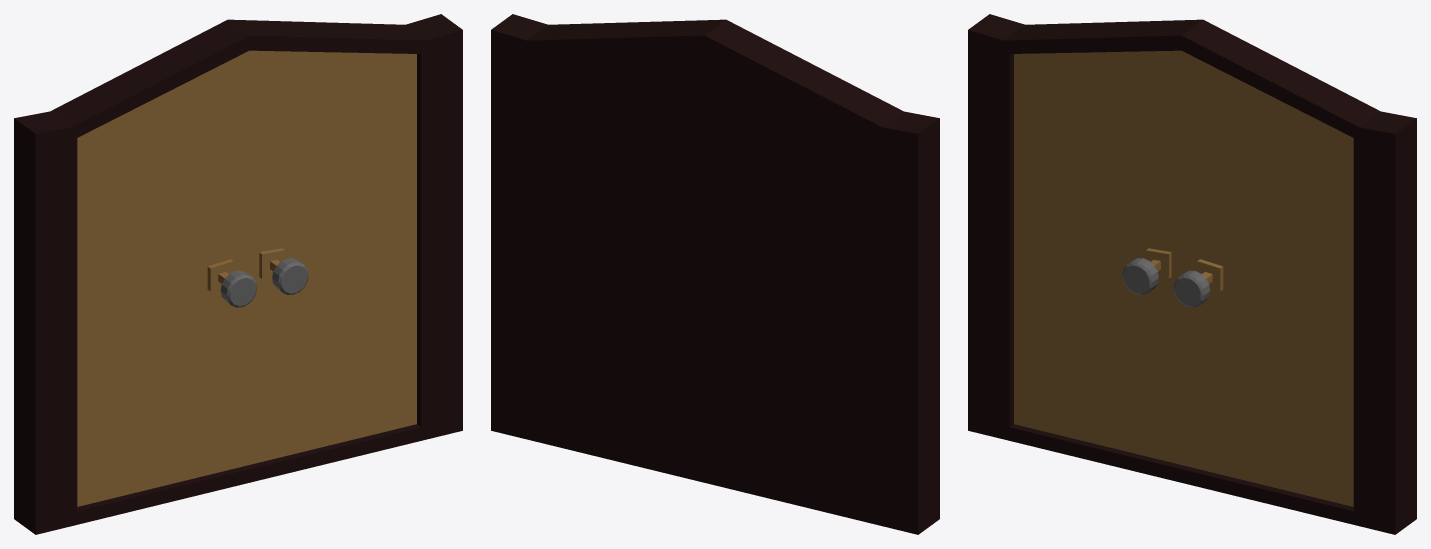
File: Door.fbx
The picture shows the model from 3 angles, left to right: view 1: azimuth 30°, elevation 25°; view 2: azimuth 150°, elevation 25°; view 3: azimuth 330°, elevation 25°; orthographic projection.
Parts seen in each view (by area): view 1: Cube; view 2: Cube; view 3: Cube.
Part boxes in pixels (left/top/right/bottom): Cube: left=14, top=14, right=462, bottom=534; Cube: left=491, top=14, right=939, bottom=534; Cube: left=968, top=14, right=1416, bottom=534.
Bounding box in the file's own units: 739 × 740 × 123.
